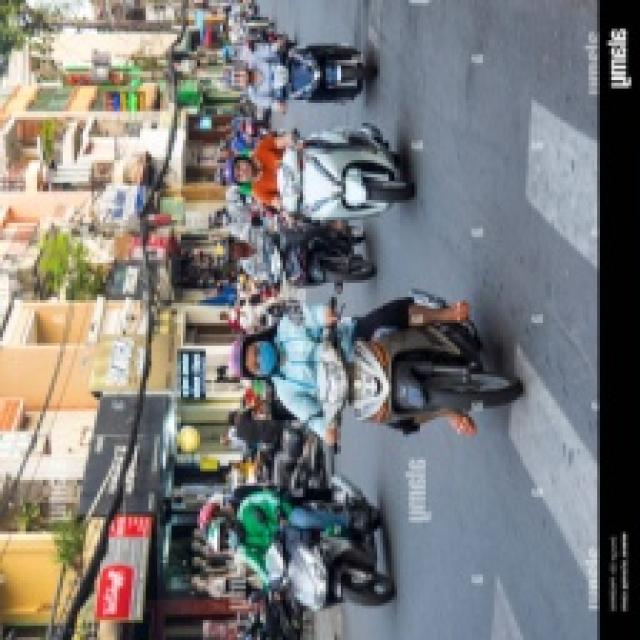bike: (310, 296, 516, 439), (263, 488, 395, 616), (273, 125, 413, 231), (251, 210, 369, 303), (264, 27, 376, 112)
